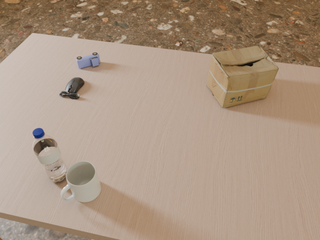bottle: (32, 128, 68, 182)
box: (206, 46, 279, 108)
cup: (61, 161, 101, 202)
mouse: (59, 77, 84, 99)
toy_car: (76, 53, 100, 68)
